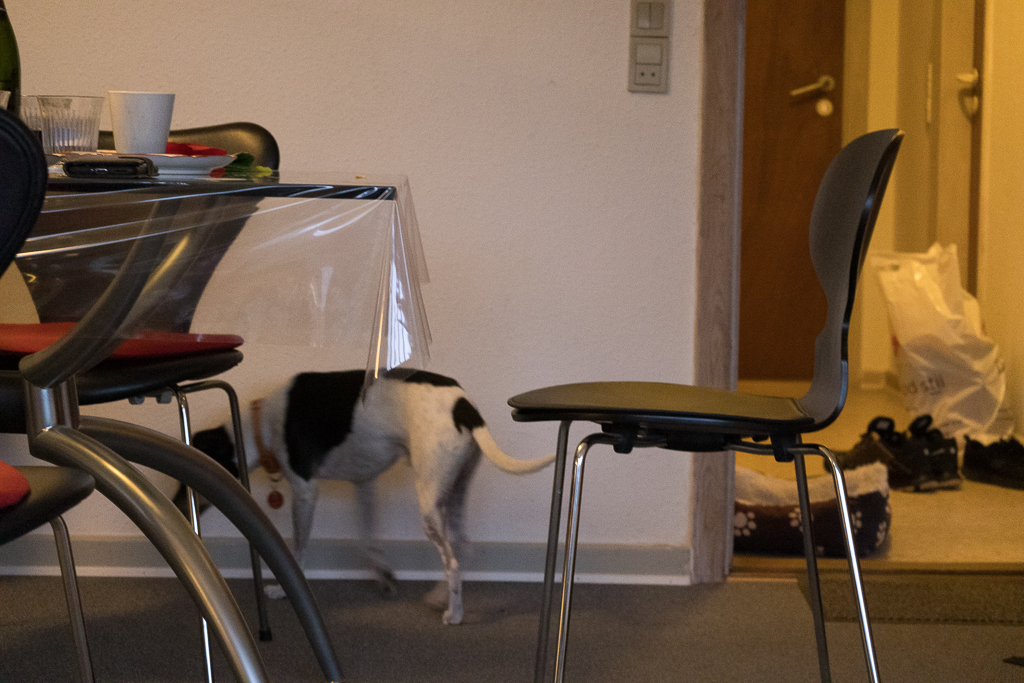Dog: (155, 347, 564, 637)
